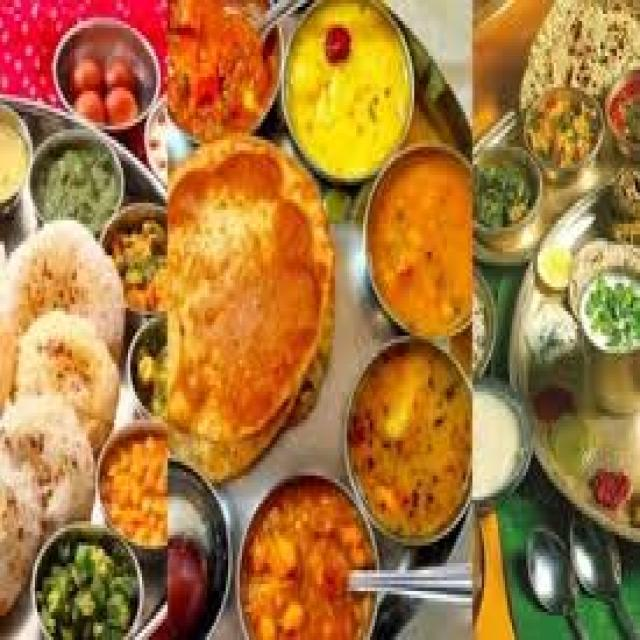dal: (288, 15, 406, 172)
papad: (154, 173, 320, 461)
roti: (0, 258, 116, 589)
sweet: (58, 28, 156, 139), (111, 209, 167, 310)
veg-fry: (351, 339, 479, 535)
